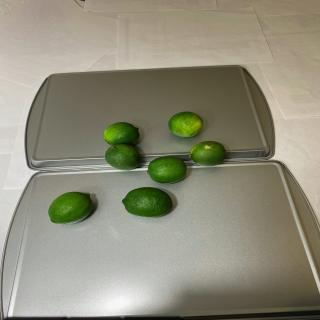Lemon: (121, 186, 172, 218), (48, 192, 93, 224), (147, 156, 187, 184), (189, 141, 227, 166), (168, 111, 204, 137), (104, 144, 140, 170), (104, 122, 140, 146)
